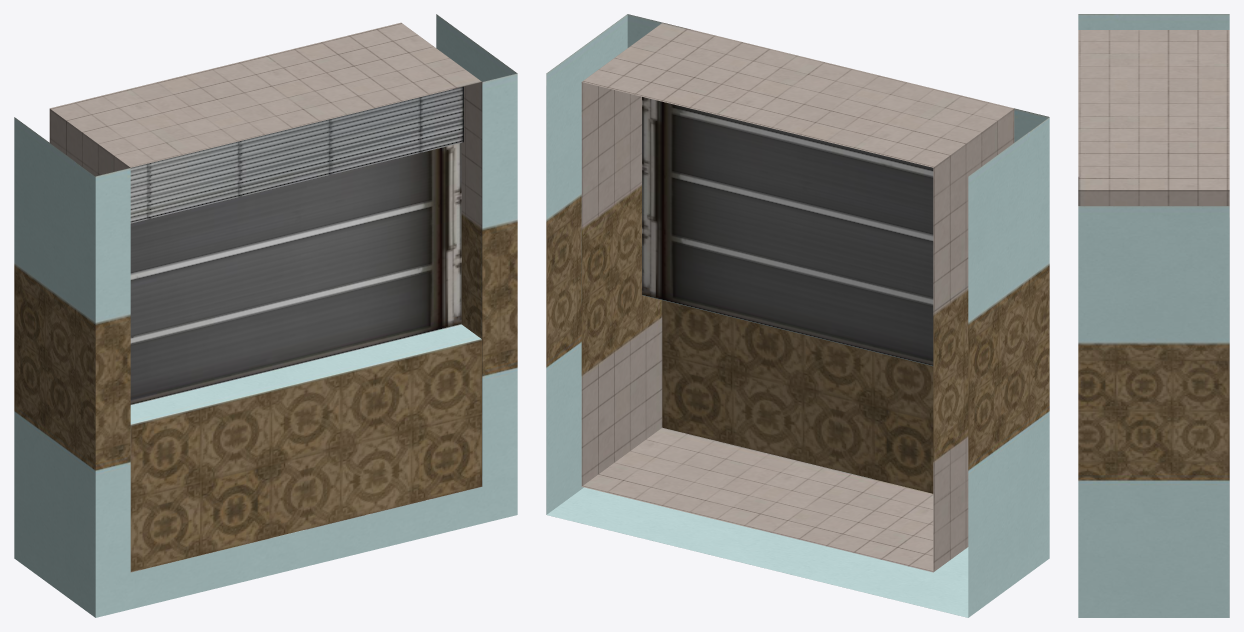
Rendered from Building B Window A5.fbx.
3 renders of one model, left to right at view 1: azimuth 30°, elevation 25°; view 2: azimuth 150°, elevation 25°; view 3: azimuth 270°, elevation 25°, orthographic. The views are drawn at different scales.
Visible parts, largest first — view 1: Building B Window A5 (2, Baked); view 2: Building B Window A5 (2, Baked); view 3: Building B Window A5 (2, Baked).
Boxes of the visible parts, x1,y1,x2,y2 form: Building B Window A5 (2, Baked): (14,14,517,617); Building B Window A5 (2, Baked): (546,14,1049,617); Building B Window A5 (2, Baked): (1078,14,1229,617).
Size of the model in its own units: 300 by 300 by 100.
